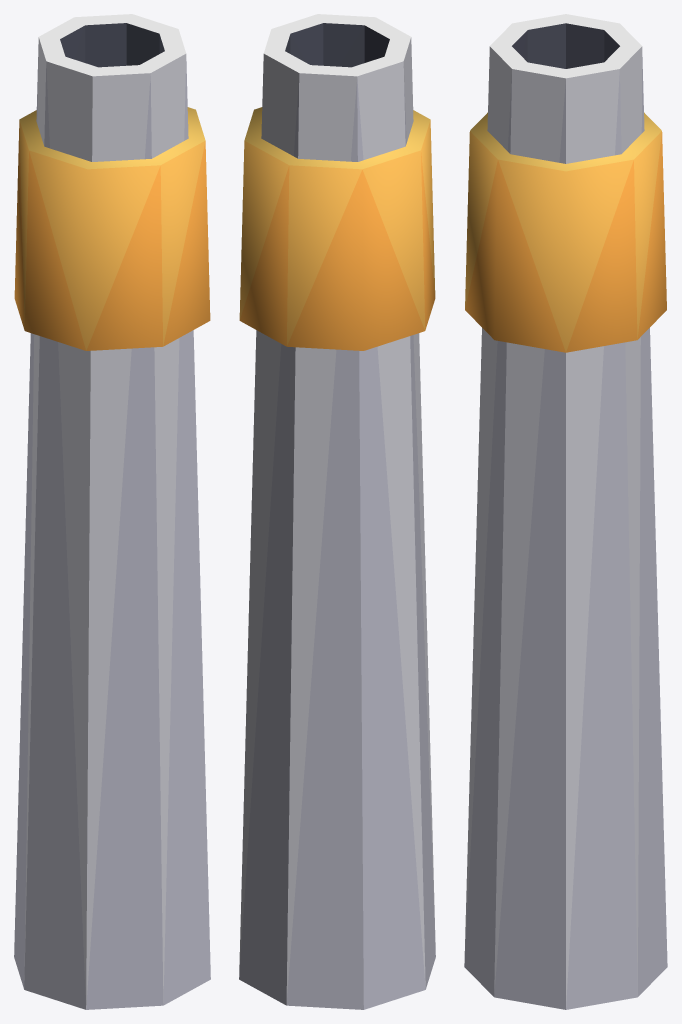
The model's file is chimney-basic.obj.
3 views of the same model, side by side, from view 1: azimuth 30°, elevation 25°; view 2: azimuth 150°, elevation 25°; view 3: azimuth 270°, elevation 25° (orthographic).
Bounding box in the file's own units: 0.2 × 1 × 0.2.
